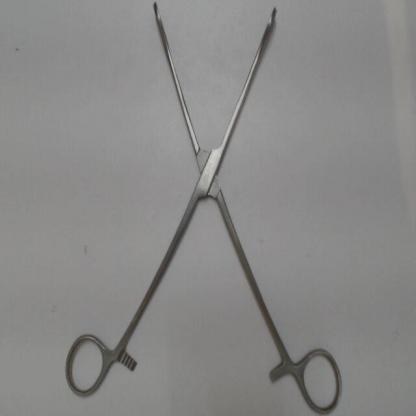Sponge Forceps: (60, 1, 348, 412)
